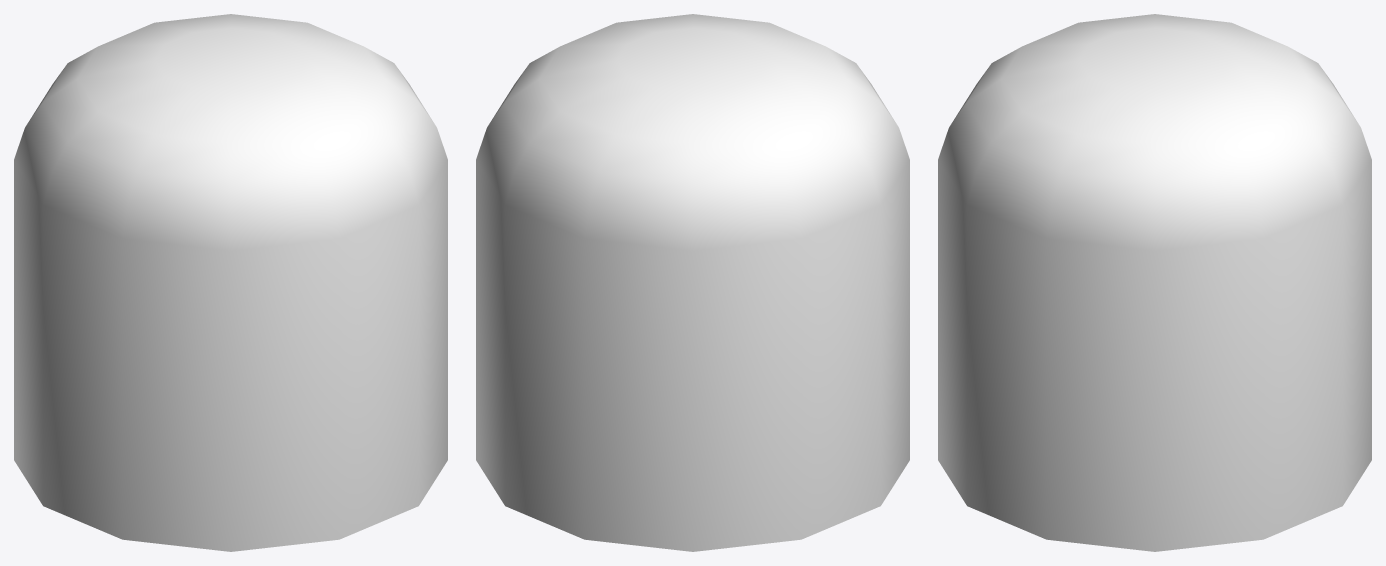
The model's file is M_Light_0.fbx.
The picture shows the model from 3 angles, left to right: view 1: azimuth 30°, elevation 25°; view 2: azimuth 150°, elevation 25°; view 3: azimuth 270°, elevation 25°; orthographic projection.
Parts seen in each view (by area): view 1: M_Light_0; view 2: M_Light_0; view 3: M_Light_0.
Boxes of the visible parts, x1,y1,x2,y2 form: M_Light_0: [14, 14, 447, 551]; M_Light_0: [476, 14, 909, 551]; M_Light_0: [938, 14, 1371, 551].
Bounding box in the file's own units: 79.92 × 81.26 × 79.92.
